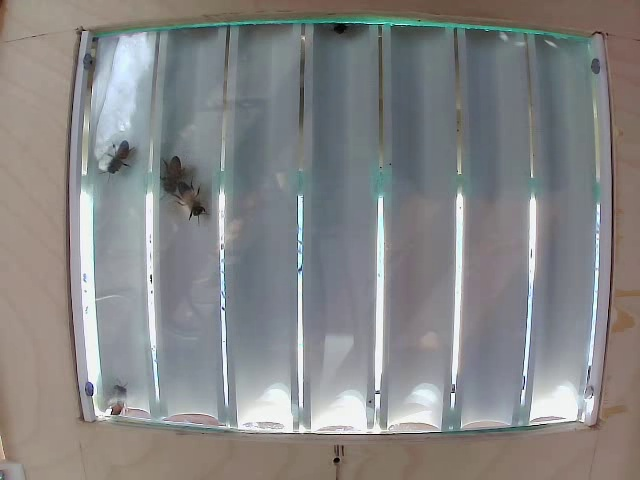bee: (101, 139, 138, 174), (152, 150, 182, 192), (179, 184, 209, 221)
